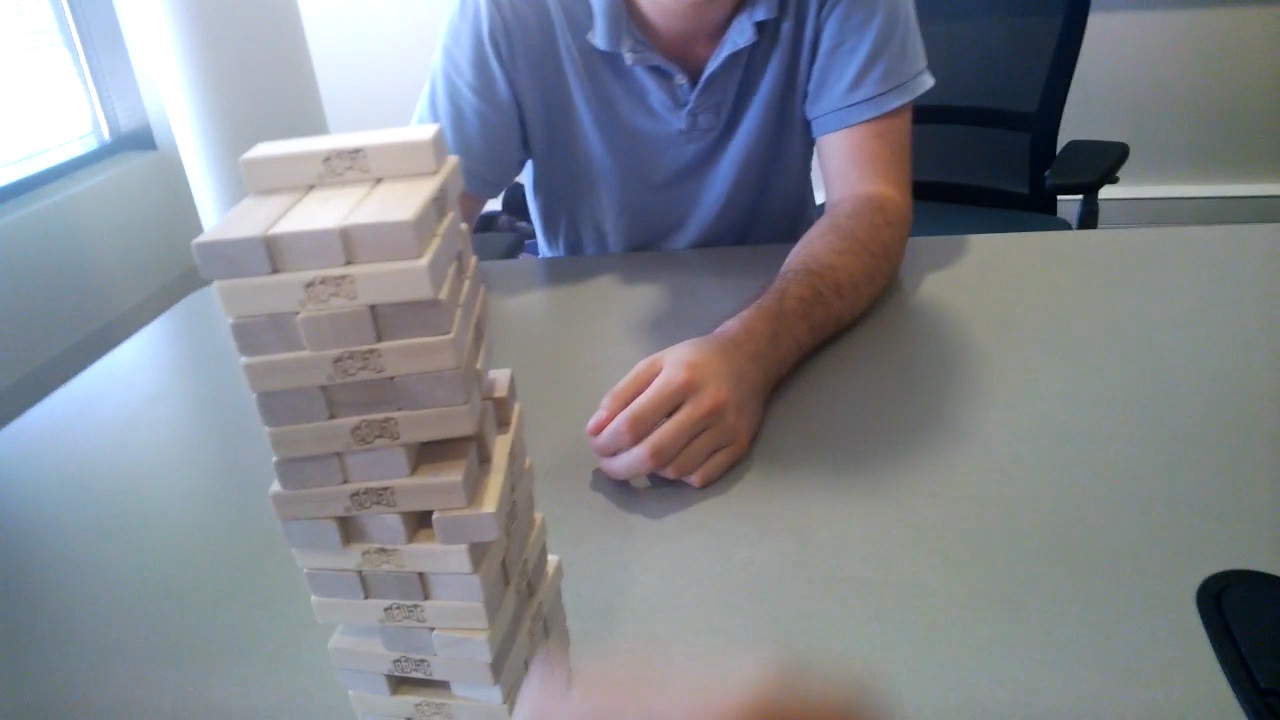hand: (596, 333, 776, 489)
